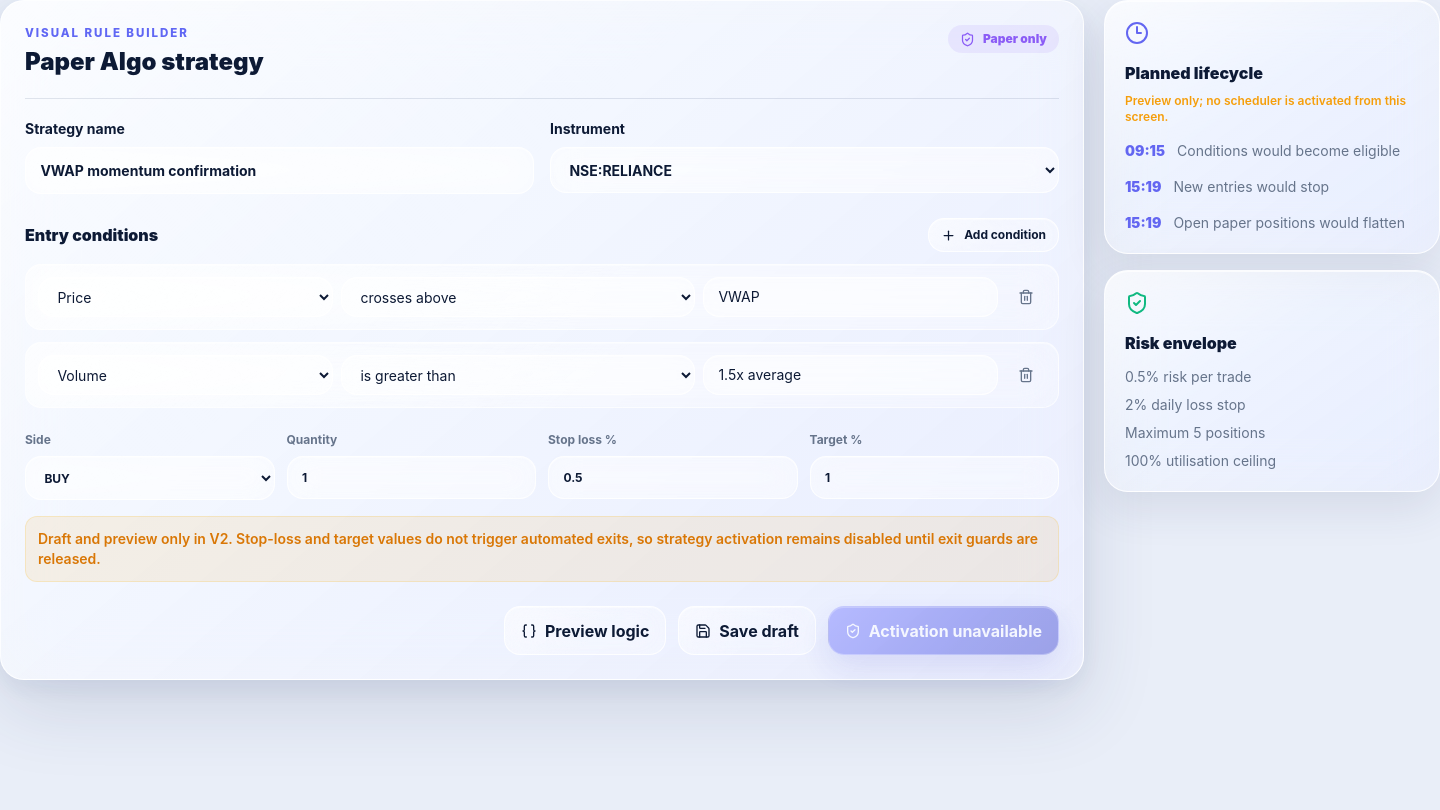
Test case: Algo Builder execution guard › persists only an inactive paper draft
Click the button "Save draft" at (747, 631), box [678,606,816,655]
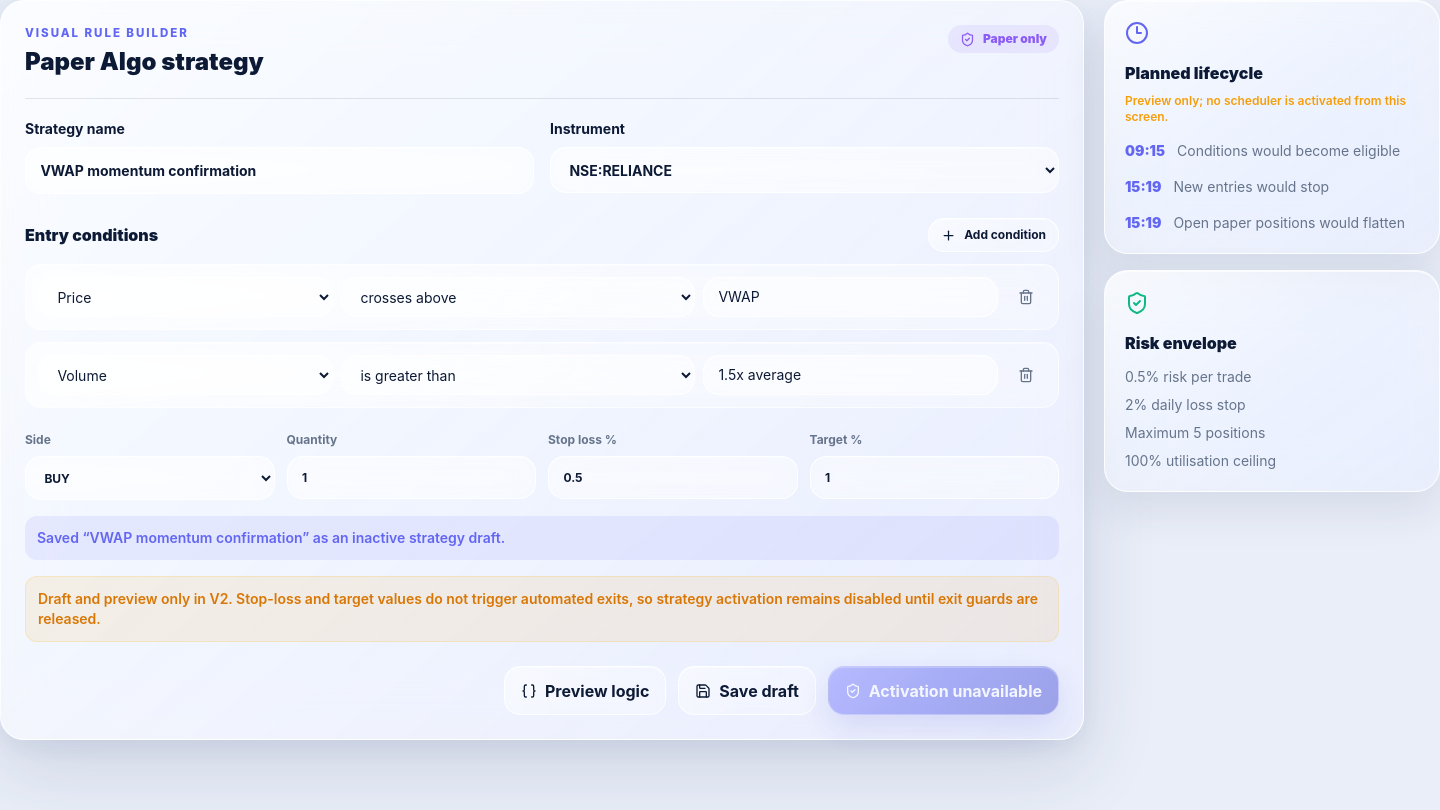
Check: the message shows "inactive strategy draft", box [37,529,505,546]
